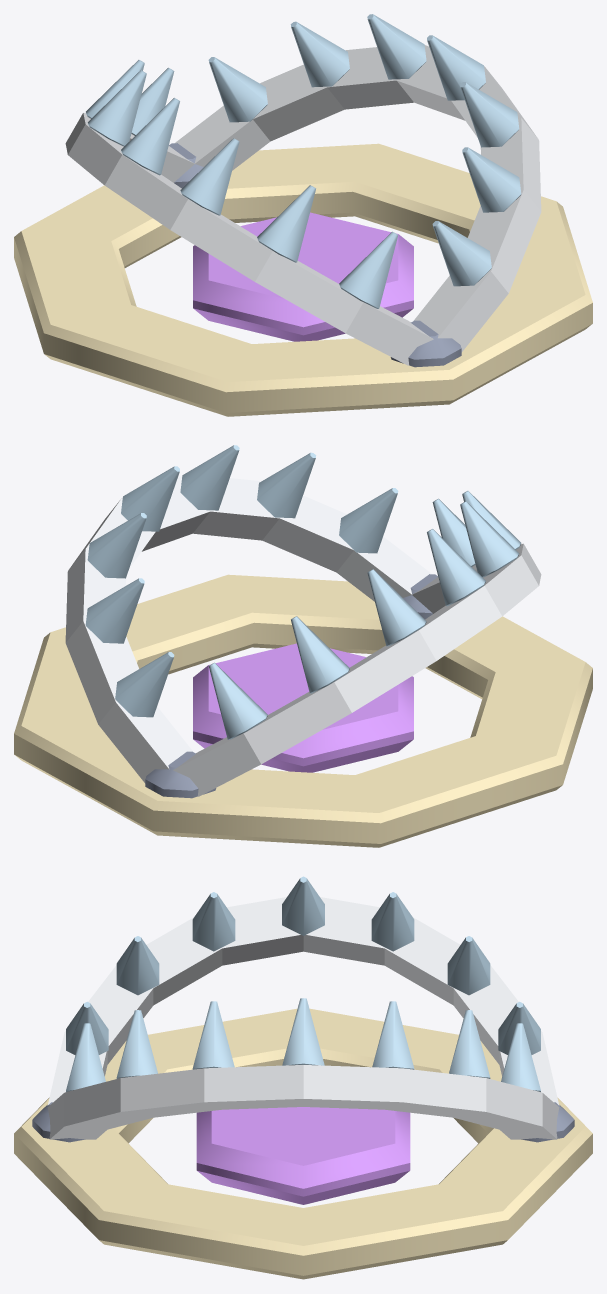
File: R4D_SnareTrap_LOD1.glb
3 views of the same model, one above another, from view 1: azimuth 30°, elevation 25°; view 2: azimuth 150°, elevation 25°; view 3: azimuth 270°, elevation 25° (orthographic). The views are drawn at different scales.
Parts seen in each view (by area): view 1: R4D_SnareTrap_LOD1; view 2: R4D_SnareTrap_LOD1; view 3: R4D_SnareTrap_LOD1.
Part boxes in pixels (box(x1,y1,x2,y2)): R4D_SnareTrap_LOD1: box(14, 14, 592, 416); R4D_SnareTrap_LOD1: box(14, 445, 592, 847); R4D_SnareTrap_LOD1: box(14, 876, 592, 1279).
Size of the model in its own units: 0.47 by 0.1997 by 0.47.
